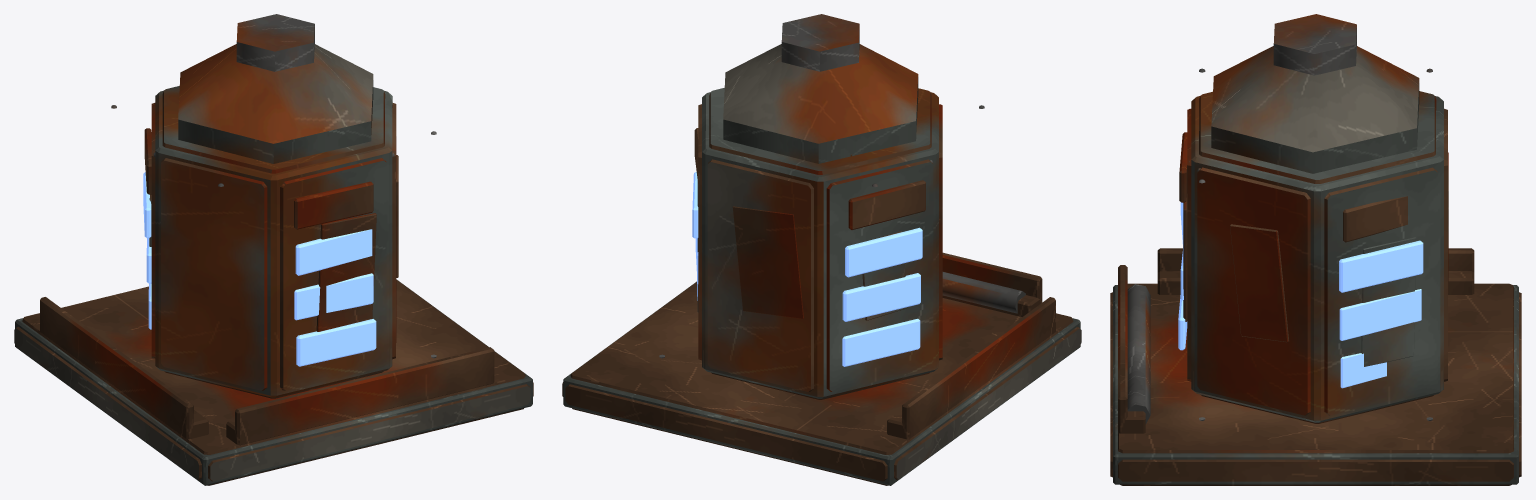
The model's file is R4X_ChargeCapacity.glb.
3 views of the same model, side by side, from view 1: azimuth 30°, elevation 25°; view 2: azimuth 150°, elevation 25°; view 3: azimuth 270°, elevation 25° (orthographic). The views are drawn at different scales.
Visible parts, largest first — view 1: R4X_ChargeCapacity_Body; view 2: R4X_ChargeCapacity_Body; view 3: R4X_ChargeCapacity_Body.
Part boxes in pixels (<box>): R4X_ChargeCapacity_Body: <box>14,14,533,485</box>; R4X_ChargeCapacity_Body: <box>562,14,1081,485</box>; R4X_ChargeCapacity_Body: <box>1110,14,1521,485</box>.
Bounding box in the file's own units: 0.52 × 0.515 × 0.52.
Materials: 5 (4 with a texture image).
